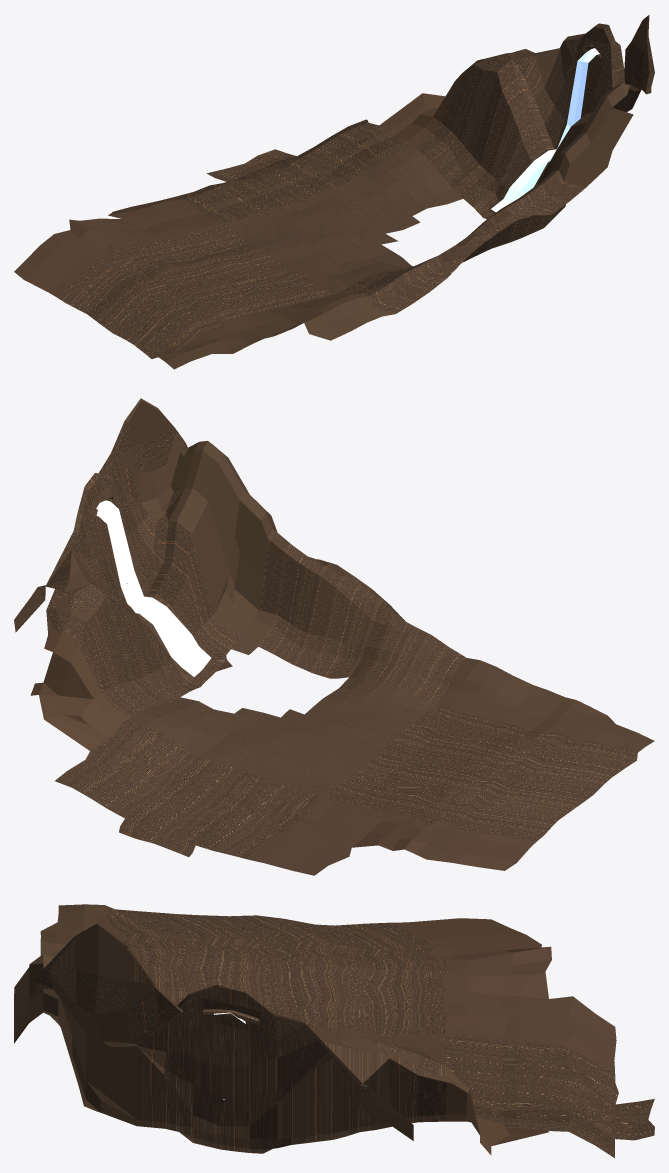
Rendered from mountain_cam.gltf.
3 views of the same model, one above another, from view 1: azimuth 30°, elevation 25°; view 2: azimuth 150°, elevation 25°; view 3: azimuth 270°, elevation 25° (orthographic). The views are drawn at different scales.
Visible parts, largest first — view 1: Landscape, Waterfall; view 2: Landscape, Waterfall; view 3: Landscape.
Part boxes in pixels (box(x1,y1,x2,y2)): Landscape: box(14, 14, 654, 369); Waterfall: box(491, 48, 599, 212); Landscape: box(14, 398, 654, 875); Waterfall: box(96, 500, 211, 676); Landscape: box(14, 904, 654, 1158).
Bounding box in the file's own units: 53.67 × 24.76 × 41.51.
Materials: 2 (1 with a texture image).
